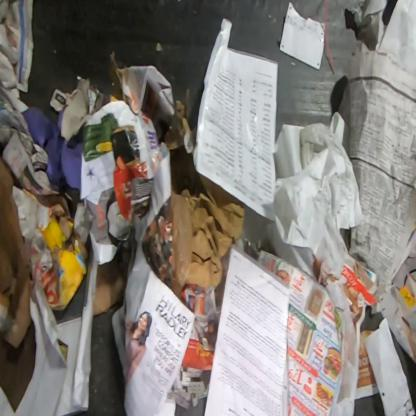cardboard: (180, 173, 246, 289), (0, 157, 35, 352), (39, 214, 87, 312), (92, 256, 127, 317)
soft_plastic: (192, 17, 280, 223), (170, 190, 193, 290)
